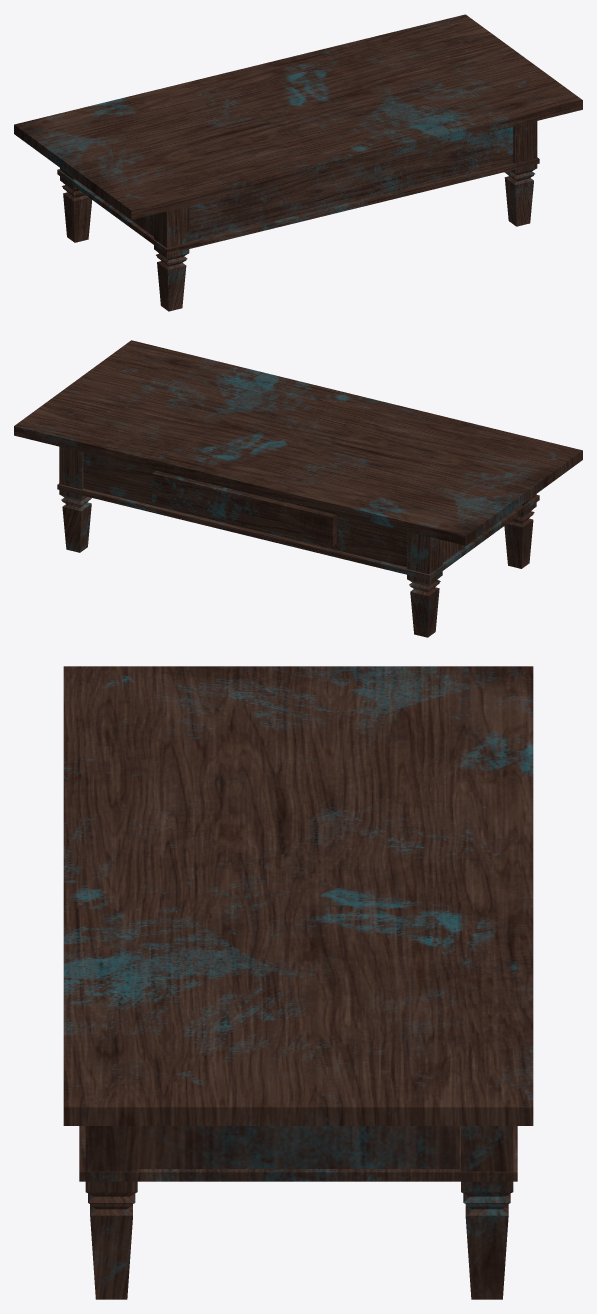
Rendered from mesa_de_centro.glb.
3 renders of one model, top to bottom at view 1: azimuth 30°, elevation 25°; view 2: azimuth 150°, elevation 25°; view 3: azimuth 270°, elevation 25°, orthographic. The views are drawn at different scales.
Parts seen in each view (by area): view 1: Plano.001; view 2: Plano.001; view 3: Plano.001.
Part boxes in pixels (left/top/right/bottom): Plano.001: left=14, top=14, right=582, bottom=311; Plano.001: left=14, top=340, right=582, bottom=637; Plano.001: left=63, top=666, right=533, bottom=1299.
Size of the model in its own units: 200 by 49.96 by 90.
Materials: 1 (1 with a texture image).
